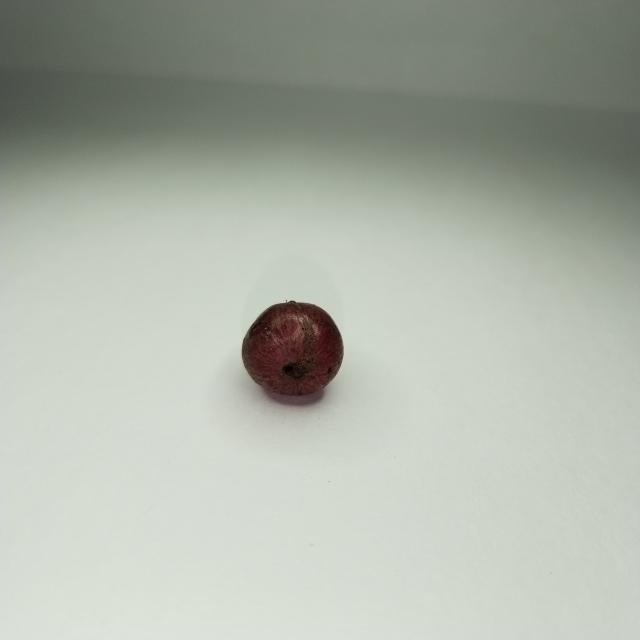Infectado: (241, 301, 345, 396)
